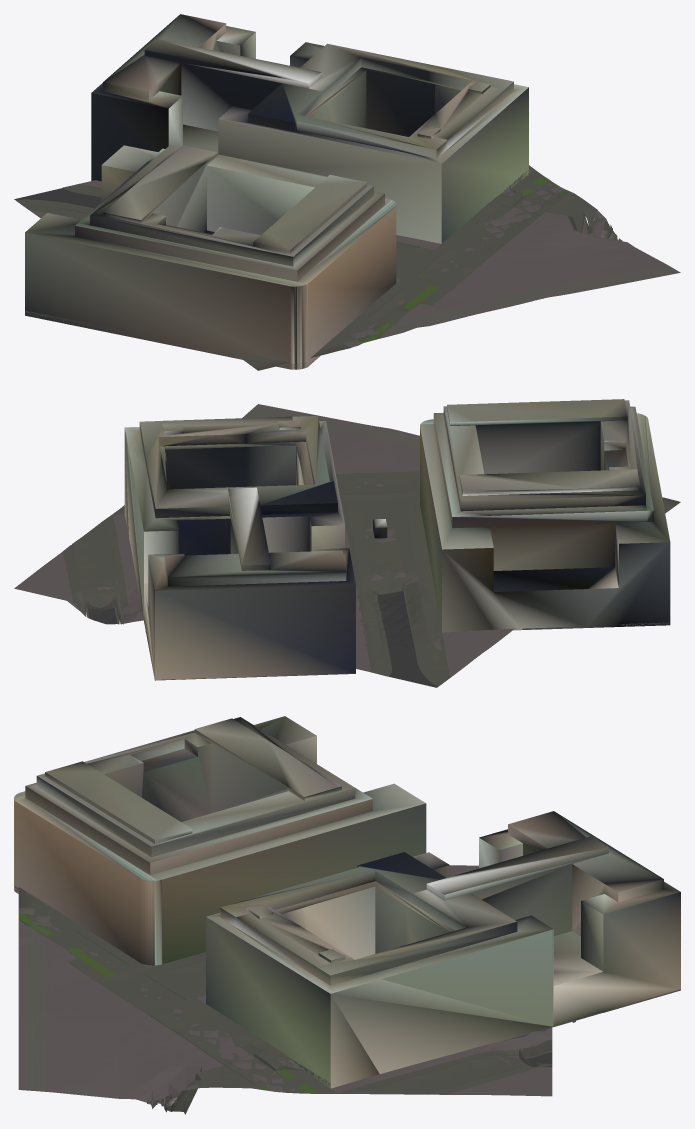
The picture shows the model from 3 angles, top to bottom: view 1: azimuth 30°, elevation 25°; view 2: azimuth 150°, elevation 25°; view 3: azimuth 270°, elevation 25°; orthographic projection. The views are drawn at different scales.
Parts seen in each view (by area): view 1: c_m09_m01; view 2: c_m09_m01; view 3: c_m09_m01.
Boxes of the visible parts, left/top/right/bottom form: c_m09_m01: left=14, top=14, right=680, bottom=370; c_m09_m01: left=14, top=399, right=680, bottom=687; c_m09_m01: left=14, top=716, right=680, bottom=1114.
Bounding box in the file's own units: 162 × 40.19 × 160.
